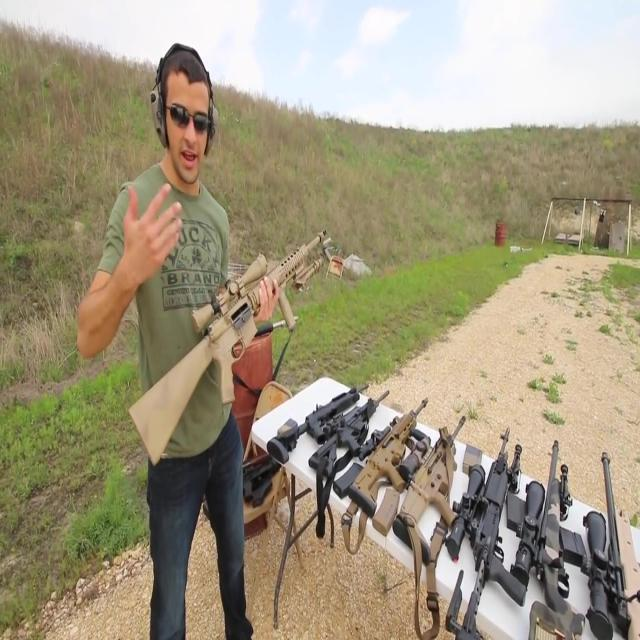Weapon: (200, 281, 640, 640), (103, 206, 335, 489)
